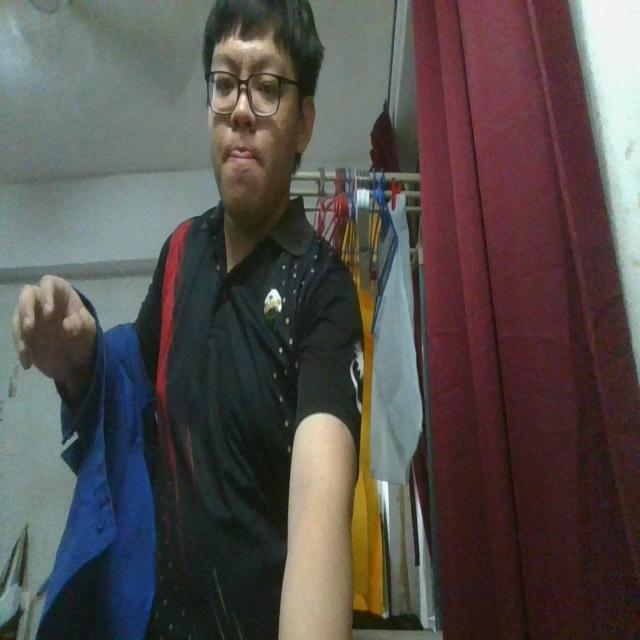person_without_labcoat: (14, 0, 362, 639)
